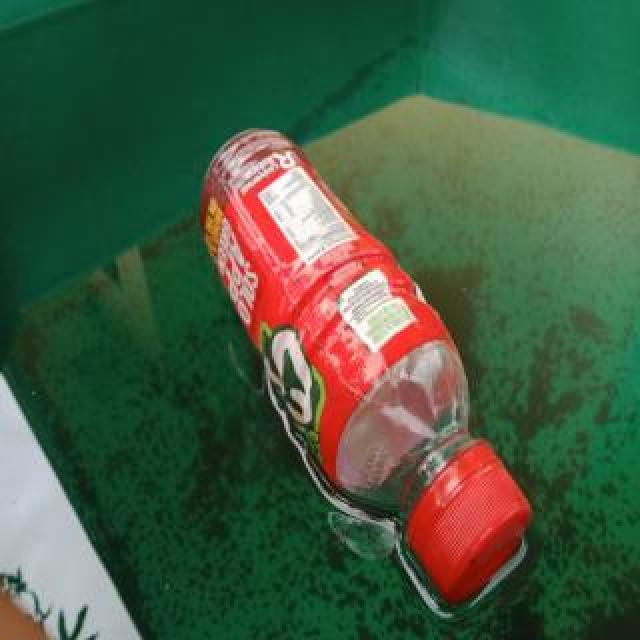bottle: (199, 125, 535, 613)
